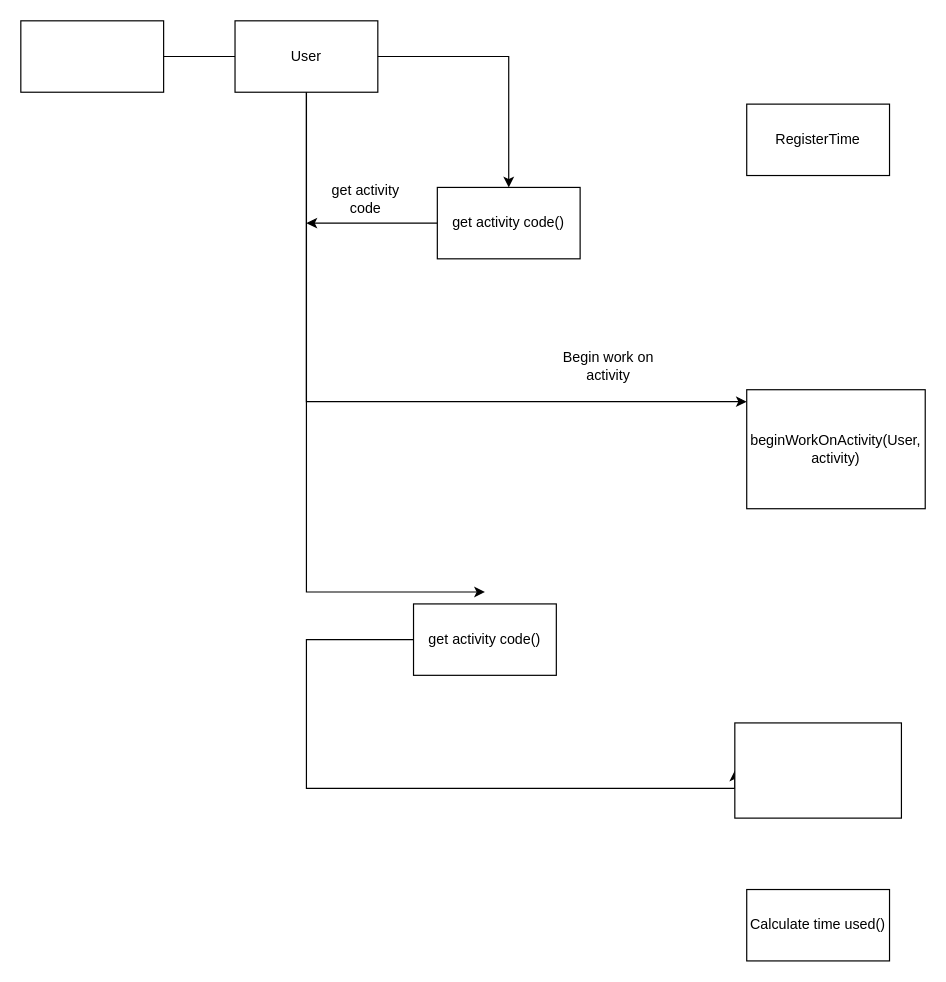
The diagram is 946 pixels wide and 982 high, and some of its shapes have lost their labels. The centre of each missing label's shape, as x and y in pixels:
A user registers time on activity: the point at 92,56
EndWorkOnActivity(user, activity): the point at 817,770
